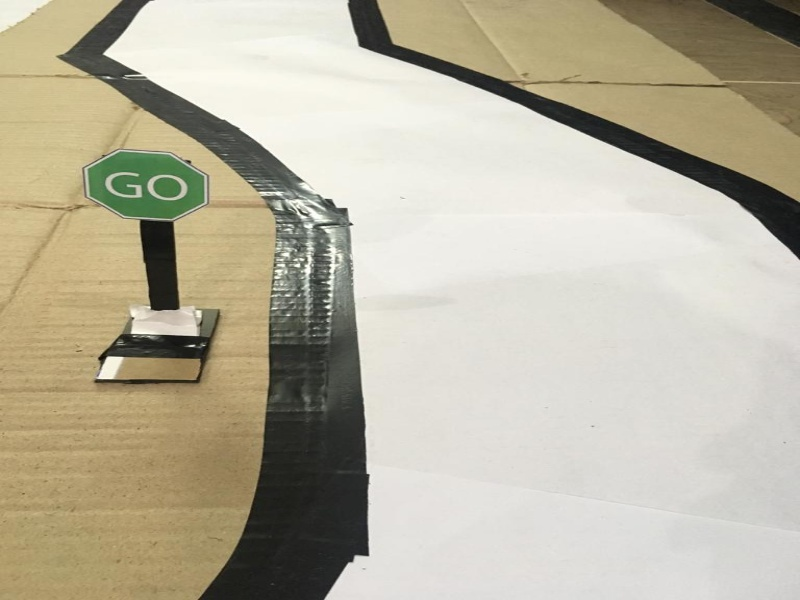Go: (73, 139, 212, 223)
